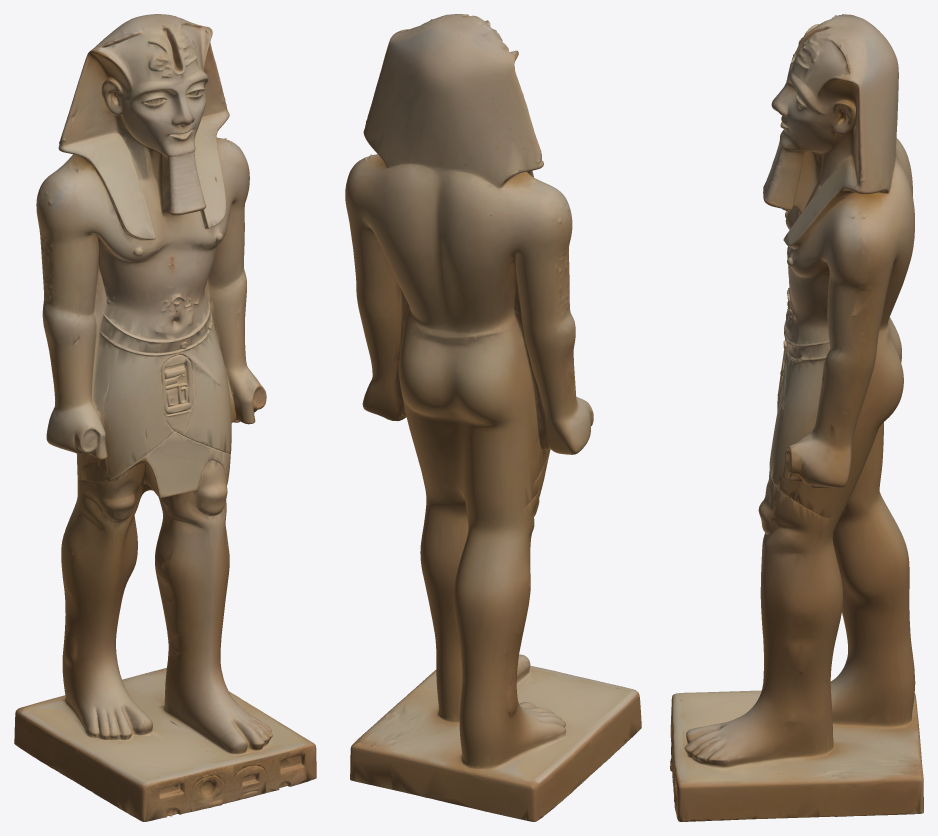
File: ramses2.glb
3 renders of one model, left to right at view 1: azimuth 30°, elevation 25°; view 2: azimuth 150°, elevation 25°; view 3: azimuth 270°, elevation 25°, orthographic. The views are drawn at different scales.
Visible parts, largest first — view 1: material; view 2: material; view 3: material.
Boxes of the visible parts, left/top/right/bottom form: material: left=14, top=14, right=316, bottom=821; material: left=345, top=14, right=641, bottom=821; material: left=670, top=14, right=923, bottom=821.
Bounding box in the file's own units: 0.3387 × 1.12 × 0.3399.
Materials: 1 (1 with a texture image).
